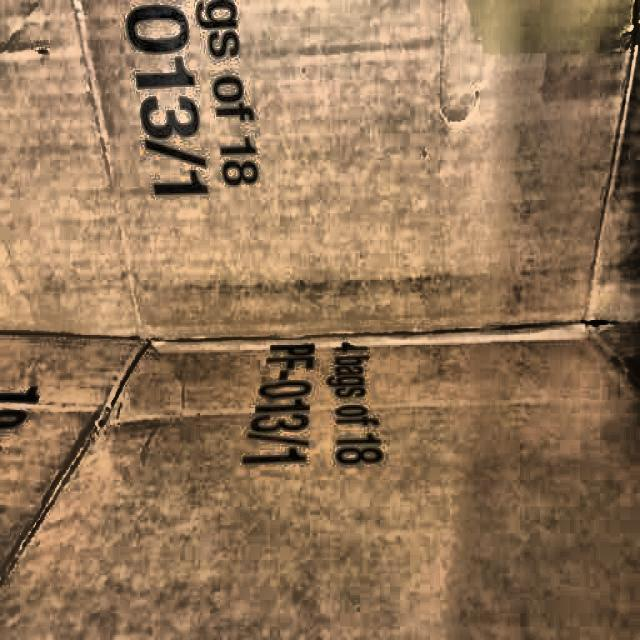cardboard: (0, 0, 639, 342)
